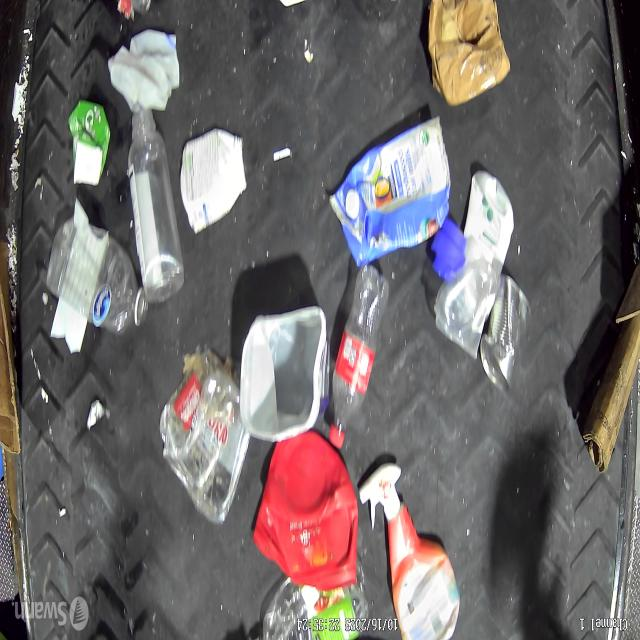can: (478, 271, 528, 386)
milk_jug: (105, 32, 178, 114)
non_white_jug: (331, 114, 450, 268), (359, 462, 460, 639), (254, 434, 361, 589)
plastic_bottle: (47, 220, 148, 335), (329, 265, 389, 449), (126, 104, 182, 300), (262, 579, 368, 640)
